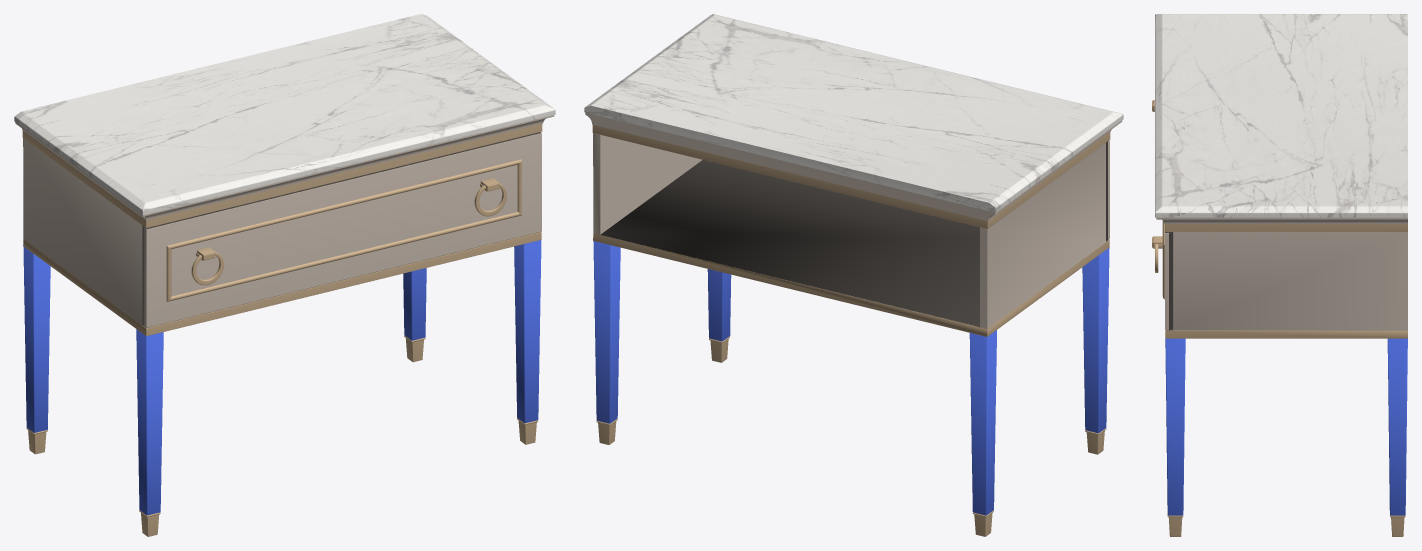
3 renders of one model, left to right at view 1: azimuth 30°, elevation 25°; view 2: azimuth 150°, elevation 25°; view 3: azimuth 270°, elevation 25°, orthographic.
Visible parts, largest first — view 1: AV01; view 2: AV01; view 3: AV01.
Part boxes in pixels (x1=…): AV01: x1=14, y1=14, x2=555, y2=536; AV01: x1=584, y1=14, x2=1123, y2=536; AV01: x1=1152, y1=14, x2=1407, y2=536.
Bounding box in the file's own units: 1.04 × 0.8151 × 0.5665.
6 materials, 3 textured.
